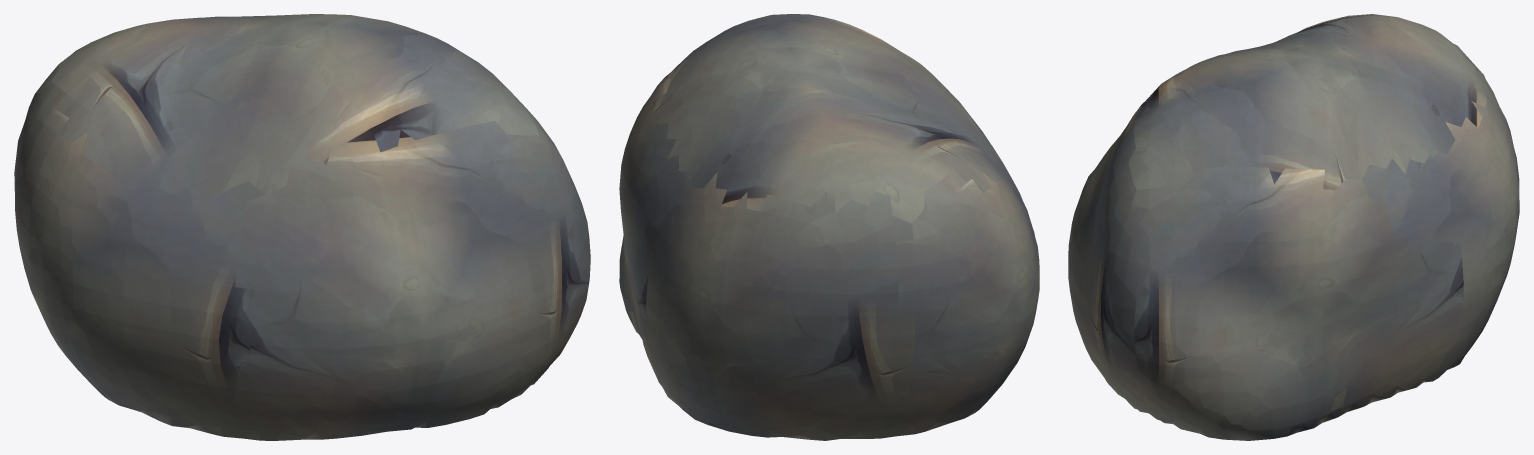
The model's file is boulder1.gltf.
3 views of the same model, side by side, from view 1: azimuth 30°, elevation 25°; view 2: azimuth 150°, elevation 25°; view 3: azimuth 270°, elevation 25° (orthographic). The views are drawn at different scales.
Parts seen in each view (by area): view 1: boulder1_stone_LOD0; view 2: boulder1_stone_LOD0; view 3: boulder1_stone_LOD0.
Part boxes in pixels (x1=…): boulder1_stone_LOD0: x1=14, y1=14, x2=590, y2=440; boulder1_stone_LOD0: x1=619, y1=14, x2=1039, y2=440; boulder1_stone_LOD0: x1=1068, y1=14, x2=1519, y2=440.
Size of what is drawn, in the model's own units: 2.47 by 1.7 by 2.3.
1 material, 1 textured.
